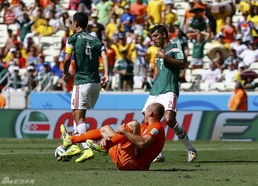falling: (49, 98, 174, 170)
